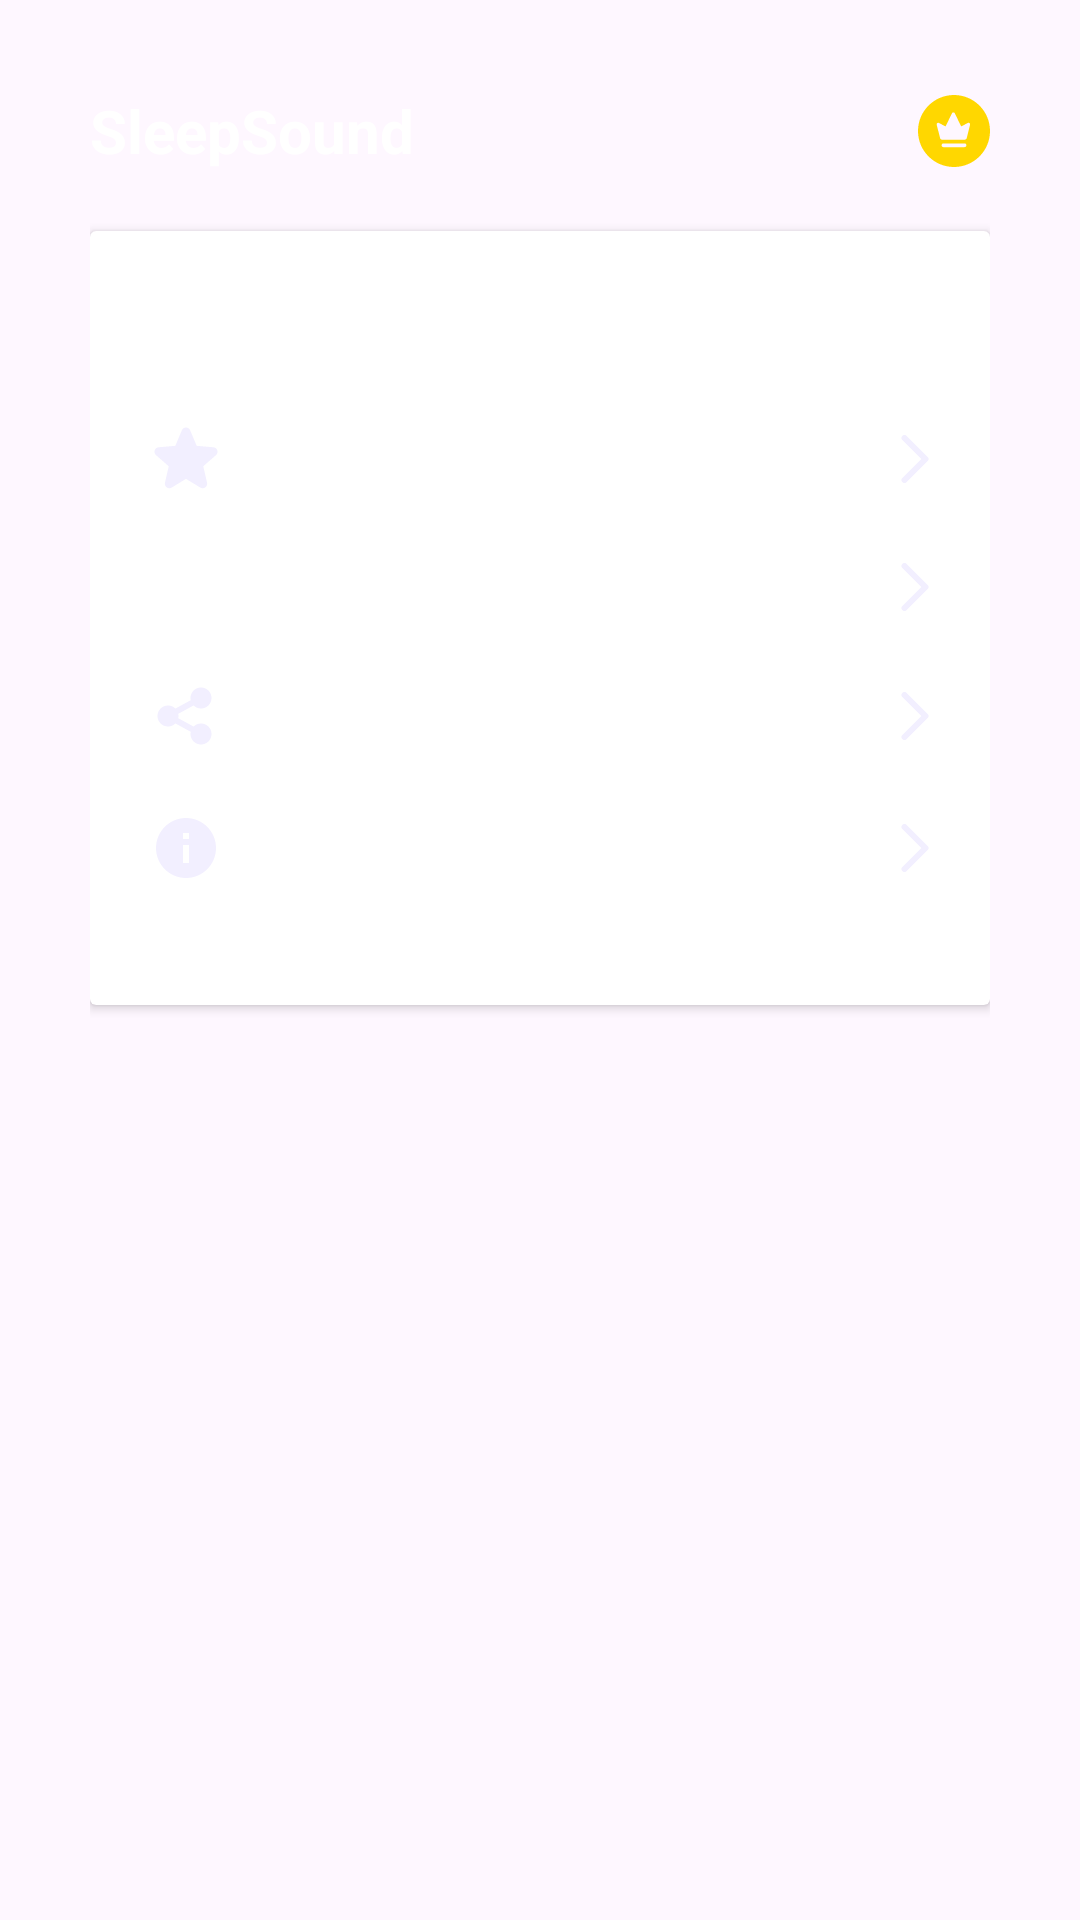

Locate icon controls on the screen. Image size 1080 x 1920, boxes as {"left": x1, "top": y1, "right": x2, "bottom": y2}.
premium no: {"left": 918, "top": 95, "right": 990, "bottom": 167}
